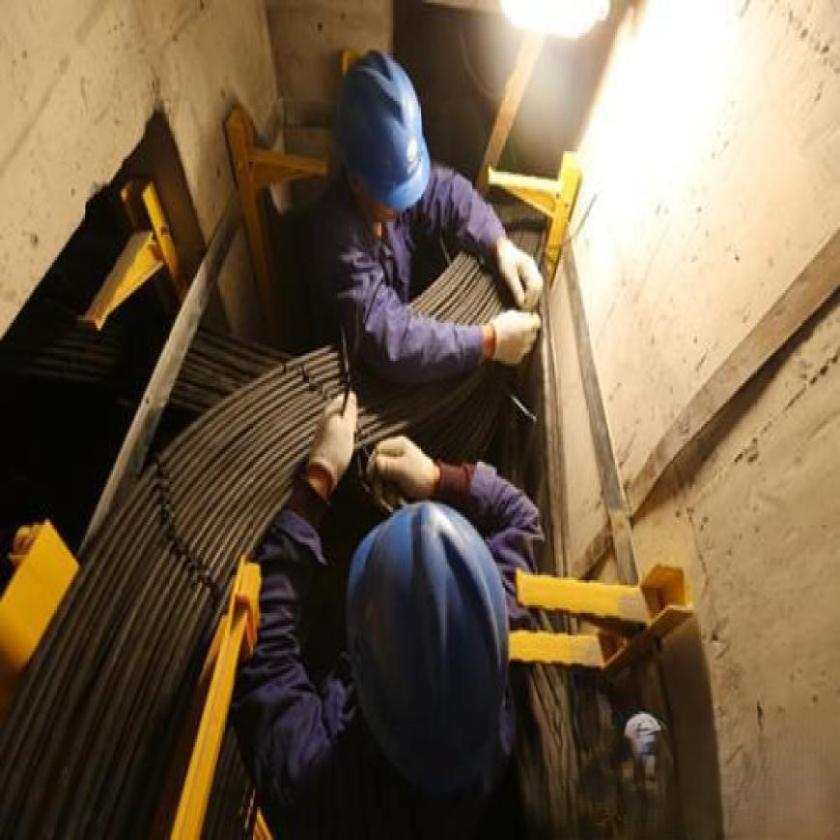Con_casco: (327, 39, 437, 253)
